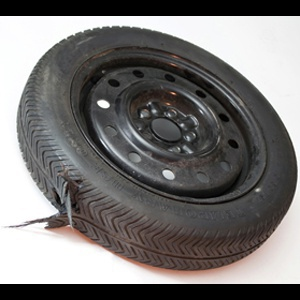tire: (16, 25, 298, 271)
